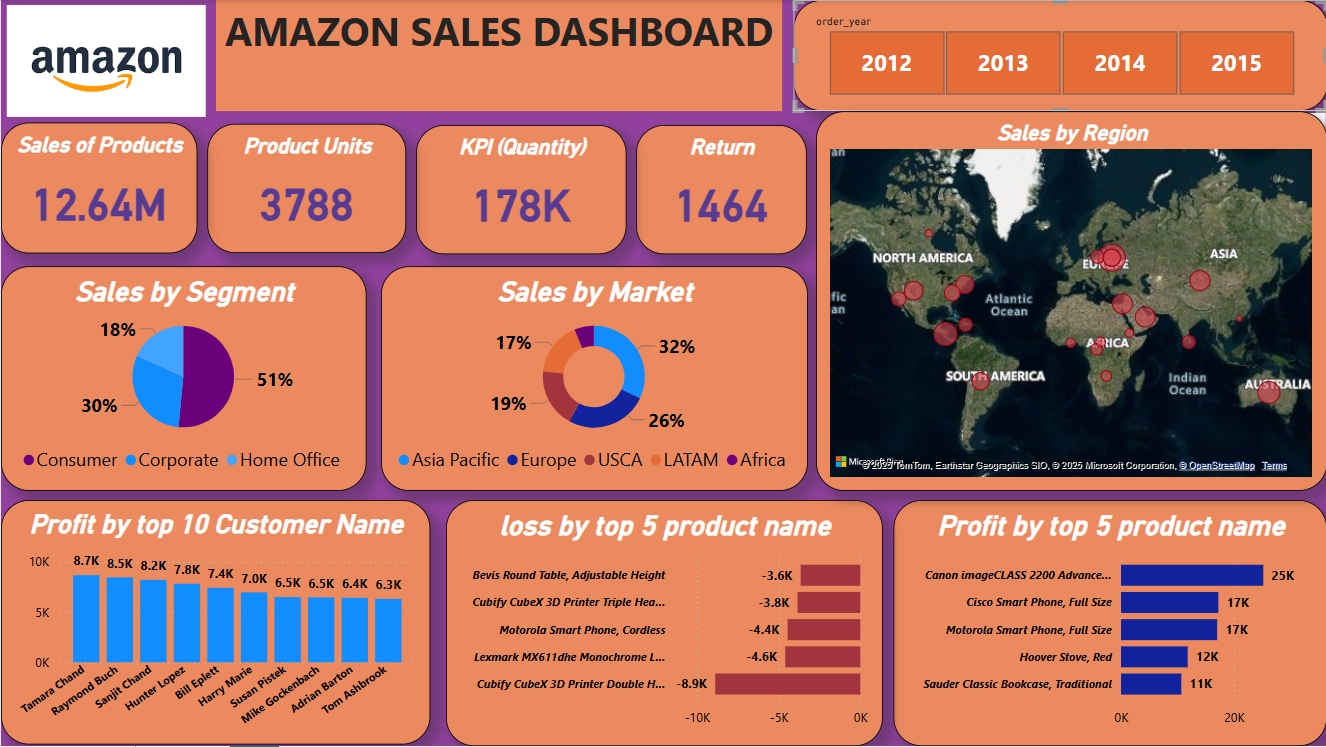

The page's visual inventory and layout, read from the dashboard file:
{"tool":"powerbi","page":{"name":"Page 1","canvas":[1280,720],"ordinal":0},"visuals":[{"type":"slicer","fields":{"Values":["Orders.order_year"]},"box":[764.3,0,516,107],"z":0},{"type":"textbox","box":[207.2,0,546.1,107],"z":1000},{"type":"card","title":"Return","fields":{"Values":["Orders.Ship Date"]},"box":[613.4,120.8,164.7,124.9],"z":2000},{"type":"card","title":"KPI (Quantity)","fields":{"Values":["Orders.Quantity"]},"box":[400.7,120.8,203.1,124.9],"z":3000},{"type":"card","title":"Product Units","fields":{"Values":["Orders.Product Name"]},"box":[199,119.4,192.1,124.9],"z":4000},{"type":"card","title":"Sales of Products","fields":{"Values":["Orders.Sales"]},"box":[0,118,189.4,126.2],"z":5000},{"type":"pieChart","title":"Sales by Segment","fields":{"Y":["Orders.Sales"],"Category":["Orders.Segment"]},"box":[0,256.6,352.7,216.8],"z":6000},{"type":"donutChart","title":"Sales by Market","fields":{"Y":["Orders.Sales"],"Category":["Orders.Market"]},"box":[366.4,256.6,411.7,216.8],"z":7000},{"type":"columnChart","title":" Profit by top 10 Customer Name","fields":{"Y":["Orders.Profit"],"Category":["Orders.Customer Name"]},"box":[0,483,414.4,236],"z":8000},{"type":"clusteredBarChart","title":" Profit by top 5 product name","fields":{"Category":["Orders.Product Name"],"Y":["Orders.Profit"]},"box":[861.8,483,418.5,237.4],"z":9000},{"type":"clusteredBarChart","title":"loss by top 5 product name","fields":{"Category":["Orders.Product Name"],"Y":["Orders.Profit"]},"box":[429.5,483,421.3,237.4],"z":10000},{"type":"image","box":[0,0,203.1,118],"z":11000},{"type":"map","title":"Sales by Region","fields":{"Category":["Orders.Region"],"Size":["Orders.Sales"]},"box":[786.6,107.4,493.4,366.8],"z":12000}]}

Visuals, with their boxes in screenshot pixels (x1, y1, x2, y2), scaled from the page's 1280x720 canvas onto the 1326x747 screenshot:
slicer - Orders.order_year: detection(792, 0, 1325, 111)
textbox: detection(215, 0, 780, 111)
"Return" card: detection(635, 125, 806, 255)
"KPI (Quantity)" card: detection(415, 125, 625, 255)
"Product Units" card: detection(206, 124, 405, 253)
"Sales of Products" card: detection(0, 122, 196, 253)
"Sales by Segment" pieChart: detection(0, 266, 365, 491)
"Sales by Market" donutChart: detection(380, 266, 806, 491)
" Profit by top 10 Customer Name" columnChart: detection(0, 501, 429, 746)
" Profit by top 5 product name" clusteredBarChart: detection(893, 501, 1325, 746)
"loss by top 5 product name" clusteredBarChart: detection(445, 501, 881, 746)
image: detection(0, 0, 210, 122)
"Sales by Region" map: detection(815, 111, 1325, 492)
